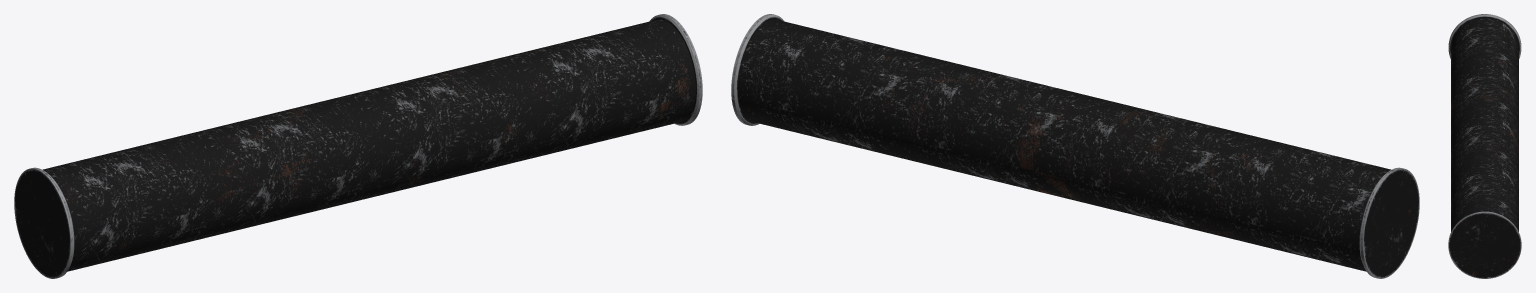
File: pipes (1).glb
3 renders of one model, left to right at view 1: azimuth 30°, elevation 25°; view 2: azimuth 150°, elevation 25°; view 3: azimuth 270°, elevation 25°, orthographic. The views are drawn at different scales.
Parts seen in each view (by area): view 1: Cylinder.001; view 2: Cylinder.001; view 3: Cylinder.001.
Part boxes in pixels (left/top/right/bottom): Cylinder.001: left=14, top=14, right=702, bottom=278; Cylinder.001: left=731, top=14, right=1419, bottom=278; Cylinder.001: left=1448, top=14, right=1521, bottom=278.
Bounding box in the file's own units: 13.89 × 2.16 × 2.16.
Materials: 1 (1 with a texture image).
